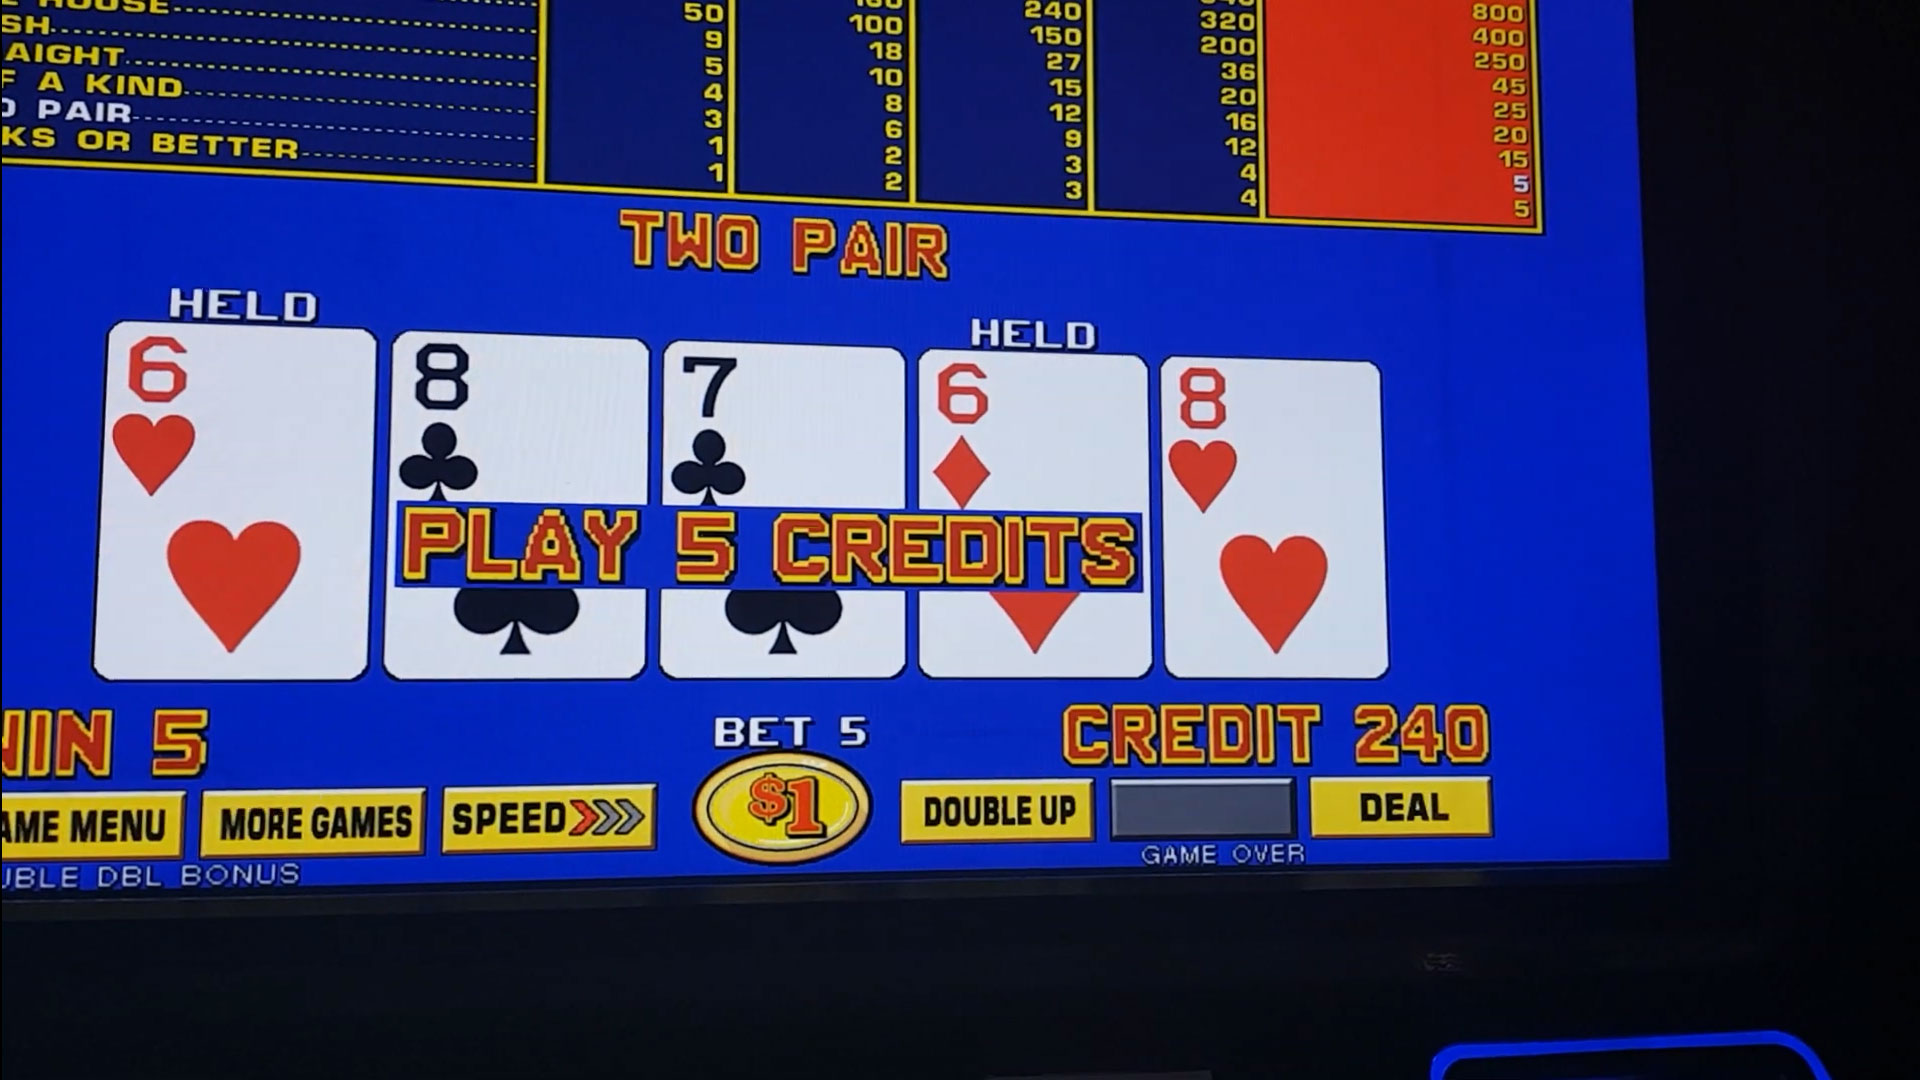C7: (670, 355, 901, 502)
C8: (396, 342, 645, 495)
D6: (920, 360, 1145, 506)
H6: (109, 328, 380, 493)
H8: (1164, 363, 1378, 513)
